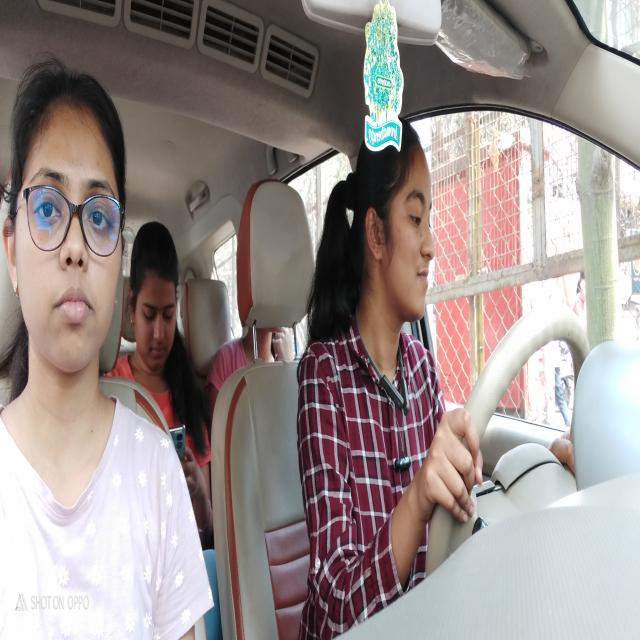person: (0, 62, 126, 393), (365, 99, 439, 339), (130, 218, 183, 376)
